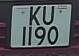0: (46, 25, 60, 47)
1: (21, 26, 29, 48), (27, 26, 35, 48)
9: (34, 25, 47, 47)
K: (28, 5, 41, 28)
U: (41, 5, 56, 27)
